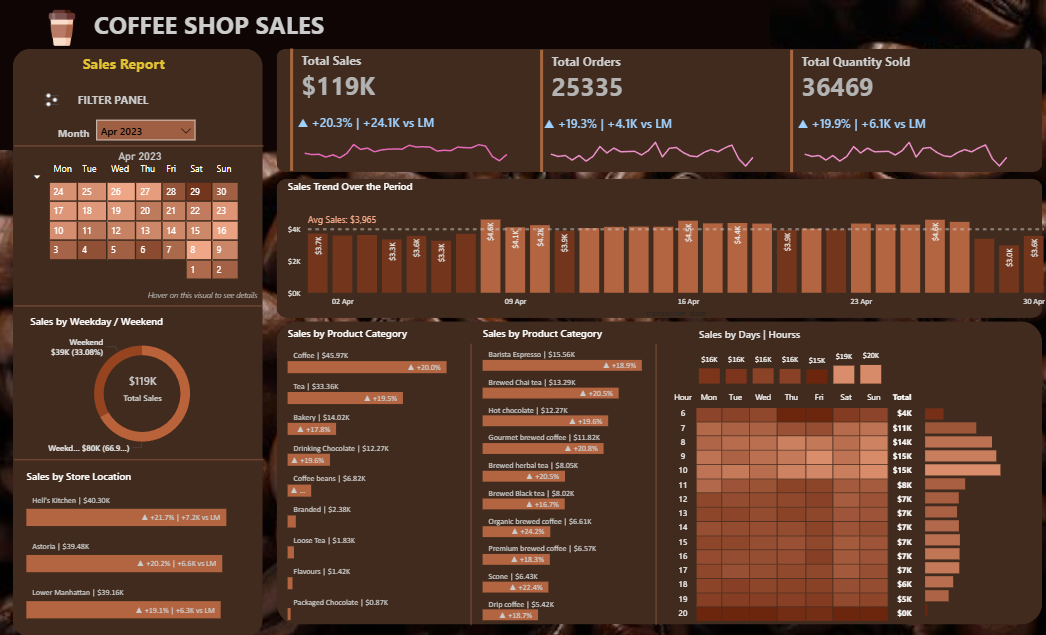

The page's visual inventory and layout, read from the dashboard file:
{"tool":"powerbi","page":{"name":"Page 1","canvas":[1400,850],"ordinal":0},"visuals":[{"type":"shape","box":[0,0,1027.8,200],"z":0},{"type":"shape","box":[17.5,65,333.3,785],"z":1000},{"type":"shape","box":[370,65.6,1021.1,164.4],"z":2000},{"type":"textbox","box":[121.7,6.7,375,58.3],"z":3000},{"type":"cardVisual","fields":{"Data":["Transactions.Total Sales"]},"box":[382.9,60.7,320,173.3],"z":4000,"group":"g3"},{"type":"cardVisual","fields":{"Data":["Transactions.Total Orders"]},"box":[716.4,60.9,320,173.3],"z":4000,"group":"g2"},{"type":"cardVisual","fields":{"Data":["Transactions.Total Quantity Sold"]},"box":[1050,61.7,320,173.3],"z":4000,"group":"g4"},{"type":"slicer","fields":{"Values":["Date Table.Month Year"]},"box":[125,155,141.7,45],"z":4000},{"type":"group","id":"g1","title":"Group 1","box":[382.9,60.7,320,173.6],"z":5000},{"type":"group","id":"g2","title":"Group 2","box":[716.4,60.9,320,173.9],"z":6000},{"type":"lineChart","fields":{"Category":["Date Table.Date.Variation.Date Hierarchy.Year","Date Table.Date.Variation.Date Hierarchy.Quarter","Date Table.Date.Variation.Date Hierarchy.Month","Date Table.Date.Variation.Date Hierarchy.Day"],"Y":["Transactions.Total Sales"]},"box":[393.3,152.9,298.3,81.7],"z":6000,"group":"g3"},{"type":"lineChart","fields":{"Category":["Date Table.Date.Variation.Date Hierarchy.Year","Date Table.Date.Variation.Date Hierarchy.Quarter","Date Table.Date.Variation.Date Hierarchy.Month","Date Table.Date.Variation.Date Hierarchy.Day"],"Y":["Transactions.Total Orders"]},"box":[721.8,153.1,298.3,81.7],"z":6000,"group":"g2"},{"type":"lineChart","fields":{"Category":["Date Table.Date.Variation.Date Hierarchy.Year","Date Table.Date.Variation.Date Hierarchy.Quarter","Date Table.Date.Variation.Date Hierarchy.Month","Date Table.Date.Variation.Date Hierarchy.Day"],"Y":["Transactions.Total Orders"]},"box":[1060.4,153.9,298.3,81.7],"z":6000,"group":"g4"},{"type":"group","id":"g3","title":"Group 2","box":[382.9,60.7,320,173.9],"z":6002,"group":"g1"},{"type":"group","id":"g4","title":"Group 2","box":[1050,61.7,320,175],"z":7000},{"type":"pivotTable","fields":{"Rows":["Date Table.Week Number"],"Columns":["Date Table.Day Name"],"Values":["Min(Date Table.Day Number)"]},"box":[37,209,287,206],"z":8000},{"type":"card","fields":{"Values":["Min(Date Table.Month Year)"]},"box":[131.4,194.3,112.9,28.6],"z":9000},{"type":"card","fields":{"Values":["Transactions.Foot Note"]},"box":[191,380,160,32],"z":10000},{"type":"shape","box":[20,390,332.9,35.7],"z":11000},{"type":"shape","box":[20,177.1,332.9,35.7],"z":12000},{"type":"donutChart","title":"Sales by Weekday / Weekend","fields":{"Category":["Date Table.Weekday / Weekend"],"Y":["Transactions.Total Sales"]},"box":[37.1,418.6,308.6,195.7],"z":13000},{"type":"card","fields":{"Values":["Transactions.Total Sales"]},"box":[117.1,468.6,150,97.1],"z":14000},{"type":"shape","box":[20,595.7,332.9,35.7],"z":15000},{"type":"clusteredBarChart","title":"Sales by Store Location","fields":{"Category":["Transactions.store_location"],"Y":["Transactions.Placeholder","Transactions.Total Sales"]},"box":[31,625,309,208],"z":16000},{"type":"shape","box":[370,237.8,1021.1,185.6],"z":17000},{"type":"shape","box":[370,428.9,1021.1,404.4],"z":18000},{"type":"columnChart","title":"Sales Trend Over the Period","fields":{"Category":["Transactions.transaction_date"],"Y":["Transactions.Total Sales"]},"box":[380,237.8,1020,190],"z":19000},{"type":"clusteredBarChart","title":"Sales by Product Category","fields":{"Y":["Transactions.Placeholder","Transactions.Total Sales"],"Category":["Transactions.product_category"]},"box":[380,435.6,250,397.8],"z":20000},{"type":"shape","box":[615.6,457.8,28.9,375.6],"z":21000},{"type":"clusteredBarChart","title":"Sales by Product Category","fields":{"Y":["Transactions.Placeholder","Transactions.Total Sales"],"Category":["Transactions.product_type"]},"box":[640,435.6,250,397.8],"z":22000},{"type":"shape","box":[862.2,457.8,28.9,375.6],"z":23000},{"type":"pivotTable","fields":{"Rows":["Transactions.Hour"],"Columns":["Date Table.Day Name"],"Values":["Transactions.Total Sales"]},"box":[890,517,370,316],"z":24000},{"type":"barChart","fields":{"Category":["Transactions.Hour"],"Y":["Transactions.Total Sales"]},"box":[1230,531,140,294],"z":25000},{"type":"columnChart","title":" Sales by Days | Hourss","fields":{"Y":["Transactions.Total Sales"],"Category":["Date Table.Day Name"]},"box":[929,436,254,81],"z":26000},{"type":"textbox","box":[73.1,163.1,80,45.4],"z":27000},{"type":"textbox","box":[106.7,65.8,148.3,45],"z":28000},{"type":"textbox","box":[99.2,118.3,107.5,45],"z":29000},{"type":"image","box":[55,115.8,30.8,33.3],"z":30000},{"type":"image","box":[55,8.2,58.2,57.7],"z":31000}]}

Visuals, with their boxes in screenshot pixels (x1, y1, x2, y2), scaled from the page's 1400x850 canvas onto the 1046x635 screenshot:
shape: left=0, top=0, right=768, bottom=149
shape: left=13, top=49, right=262, bottom=634
shape: left=276, top=49, right=1039, bottom=172
textbox: left=91, top=5, right=371, bottom=49
cardVisual - Transactions.Total Sales: left=286, top=45, right=525, bottom=175
cardVisual - Transactions.Total Orders: left=535, top=45, right=774, bottom=175
cardVisual - Transactions.Total Quantity Sold: left=784, top=46, right=1024, bottom=176
slicer - Date Table.Month Year: left=93, top=116, right=199, bottom=149
"Group 1" group: left=286, top=45, right=525, bottom=175
"Group 2" group: left=535, top=45, right=774, bottom=175
lineChart - Date Table.Date.Variation.Date Hierarchy.Year x Date Table.Date.Variation.Date Hierarchy.Quarter: left=294, top=114, right=517, bottom=175
lineChart - Date Table.Date.Variation.Date Hierarchy.Year x Date Table.Date.Variation.Date Hierarchy.Quarter: left=539, top=114, right=762, bottom=175
lineChart - Date Table.Date.Variation.Date Hierarchy.Year x Date Table.Date.Variation.Date Hierarchy.Quarter: left=792, top=115, right=1015, bottom=176
"Group 2" group: left=286, top=45, right=525, bottom=175
"Group 2" group: left=784, top=46, right=1024, bottom=177
pivotTable - Date Table.Week Number x Date Table.Day Name: left=28, top=156, right=242, bottom=310
card - Min(Date Table.Month Year): left=98, top=145, right=183, bottom=167
card - Transactions.Foot Note: left=143, top=284, right=262, bottom=308
shape: left=15, top=291, right=264, bottom=318
shape: left=15, top=132, right=264, bottom=159
"Sales by Weekday / Weekend" donutChart: left=28, top=313, right=258, bottom=459
card - Transactions.Total Sales: left=87, top=350, right=200, bottom=423
shape: left=15, top=445, right=264, bottom=472
"Sales by Store Location" clusteredBarChart: left=23, top=467, right=254, bottom=622
shape: left=276, top=178, right=1039, bottom=316
shape: left=276, top=320, right=1039, bottom=623
"Sales Trend Over the Period" columnChart: left=284, top=178, right=1045, bottom=320
"Sales by Product Category" clusteredBarChart: left=284, top=325, right=471, bottom=623
shape: left=460, top=342, right=482, bottom=623
"Sales by Product Category" clusteredBarChart: left=478, top=325, right=665, bottom=623
shape: left=644, top=342, right=666, bottom=623
pivotTable - Transactions.Hour x Date Table.Day Name: left=665, top=386, right=941, bottom=622
barChart - Transactions.Hour x Transactions.Total Sales: left=919, top=397, right=1024, bottom=616
" Sales by Days | Hourss" columnChart: left=694, top=326, right=884, bottom=386
textbox: left=55, top=122, right=114, bottom=156
textbox: left=80, top=49, right=191, bottom=83
textbox: left=74, top=88, right=154, bottom=122
image: left=41, top=87, right=64, bottom=111
image: left=41, top=6, right=85, bottom=49
